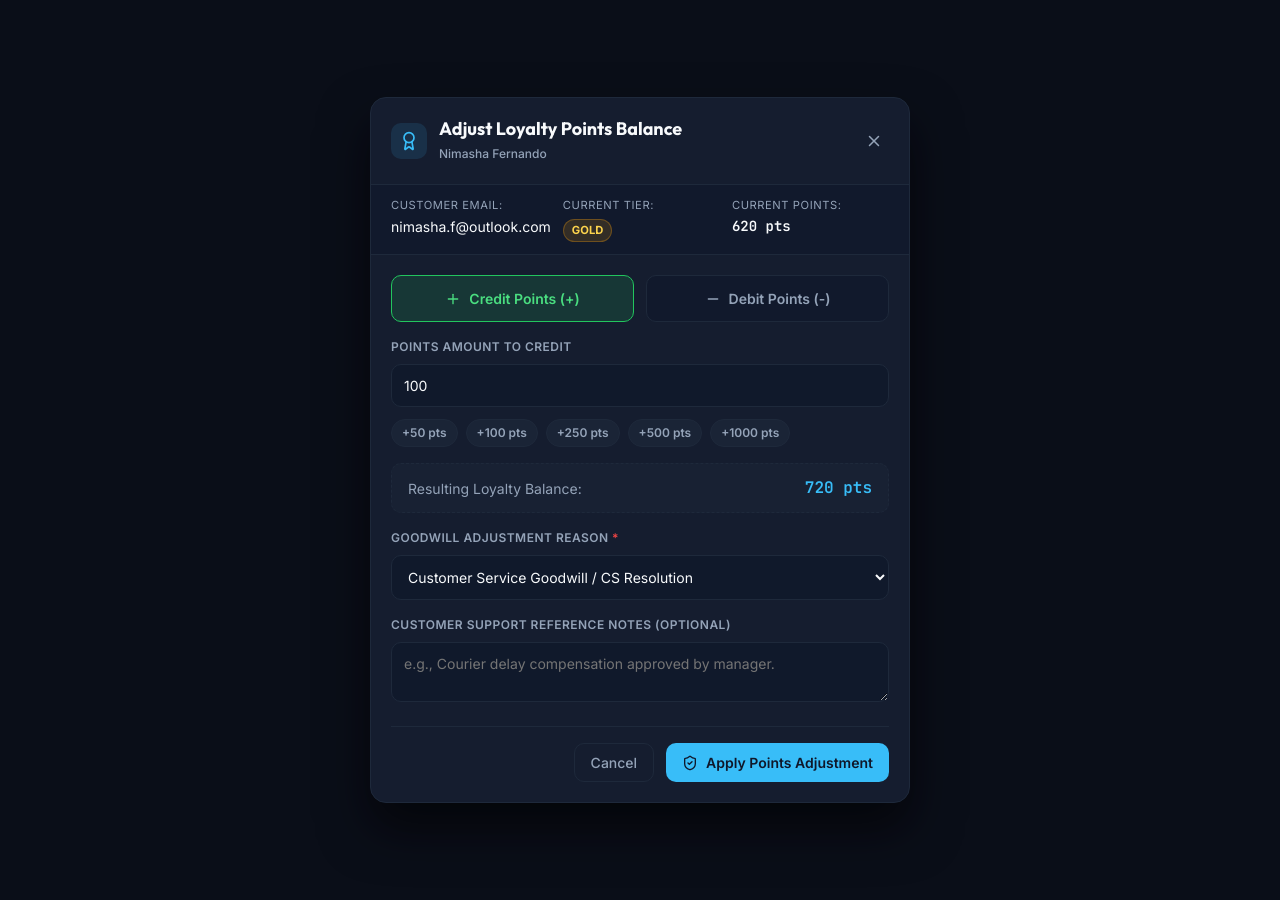
STORM-FE-020: Loyalty Tier Review Console & 2-Quarter Grace Period Downgrade Management › DEV-200: Goodwill Points Adjustment Modal & Quarterly Audit Sweep › prevents debiting more points than the customer available balance
Switch to debit (-)
Click the button with test id "toggle-deduct-points" at coordinates (768, 298), box top-left (646, 275), bottom-right (889, 322)
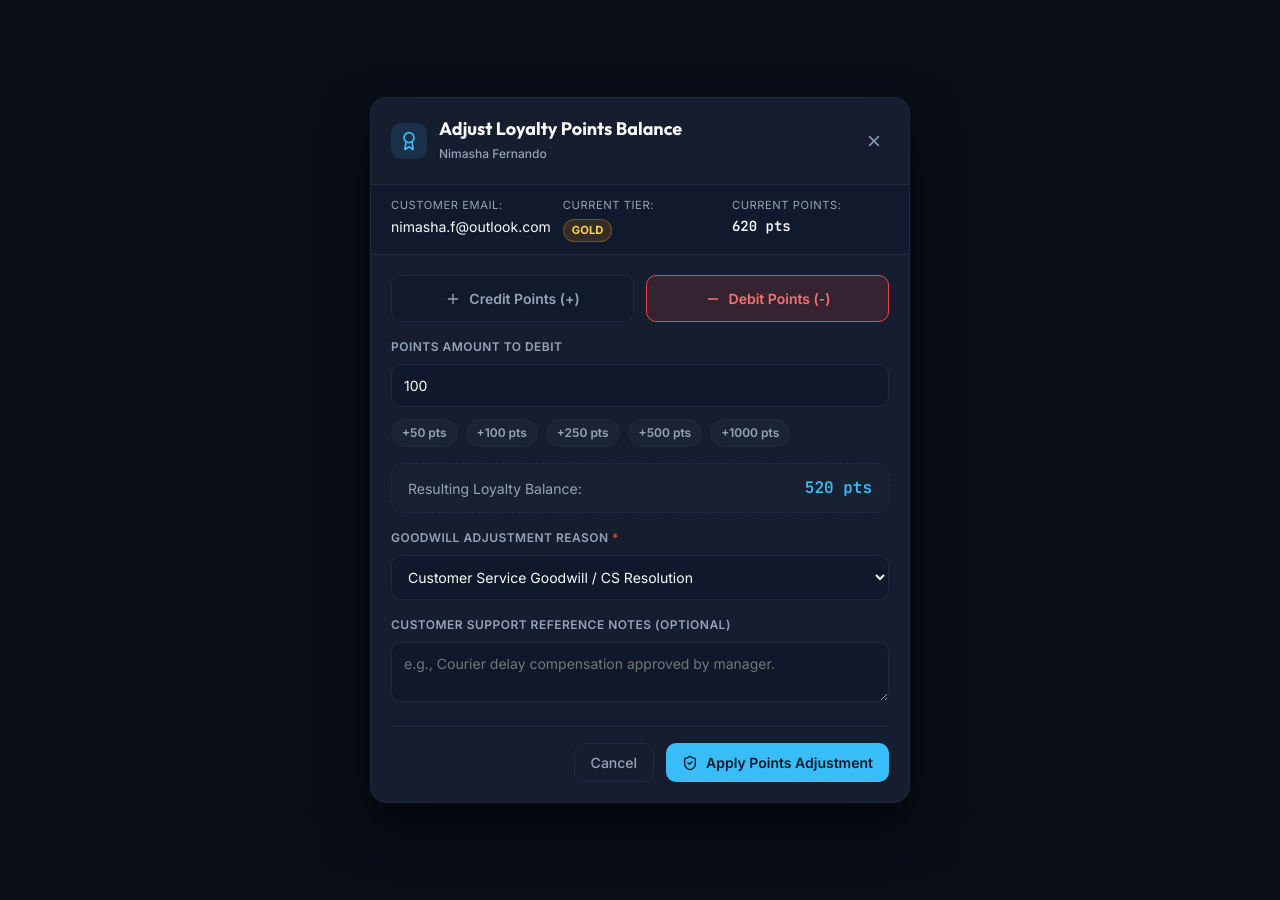
Replace the text in the number field with test id "points-qty-input" with "700" at coordinates (640, 386), box top-left (391, 364), bottom-right (889, 407)
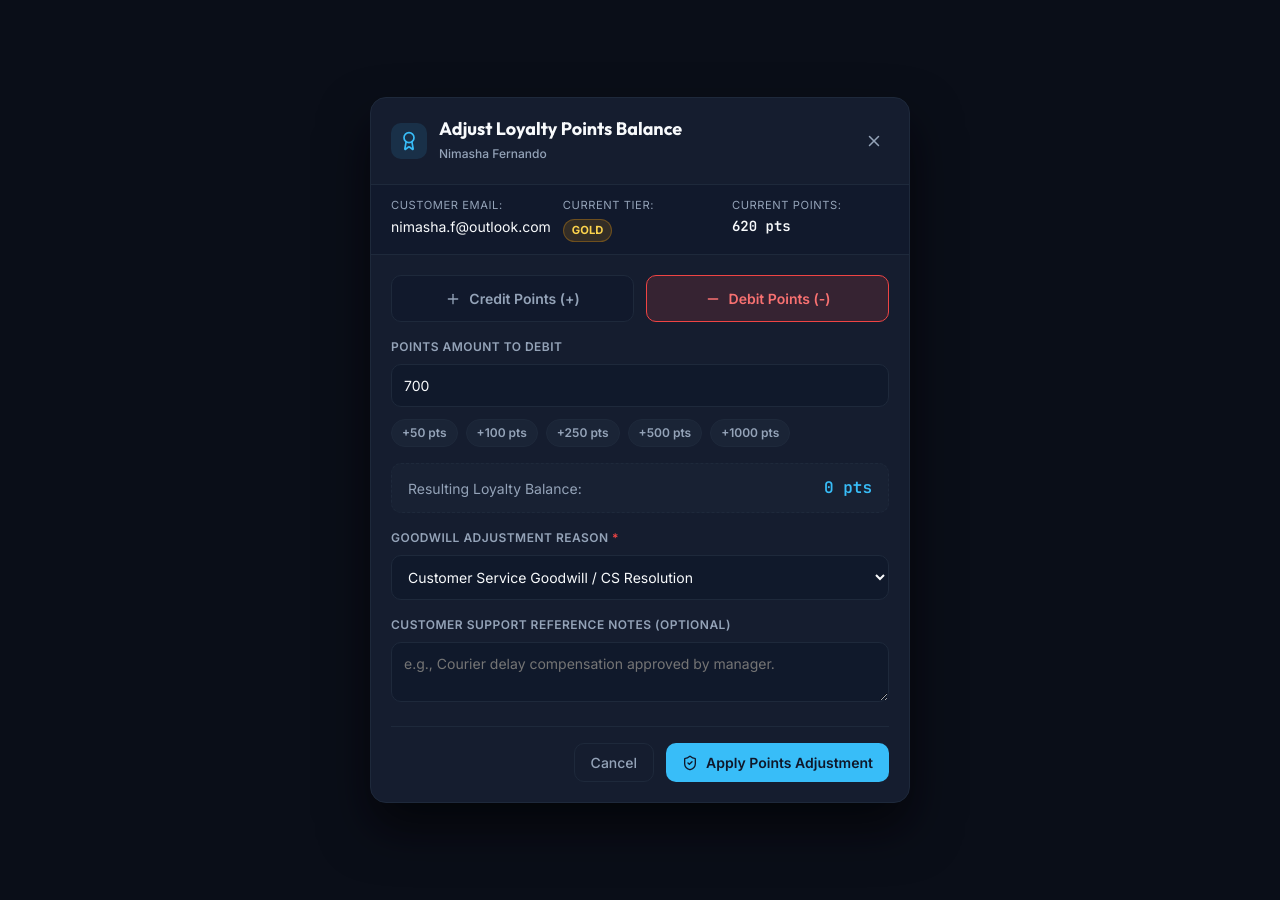
Click the button with test id "submit-points-adjustment-btn" at coordinates (778, 762), box top-left (666, 743), bottom-right (889, 782)
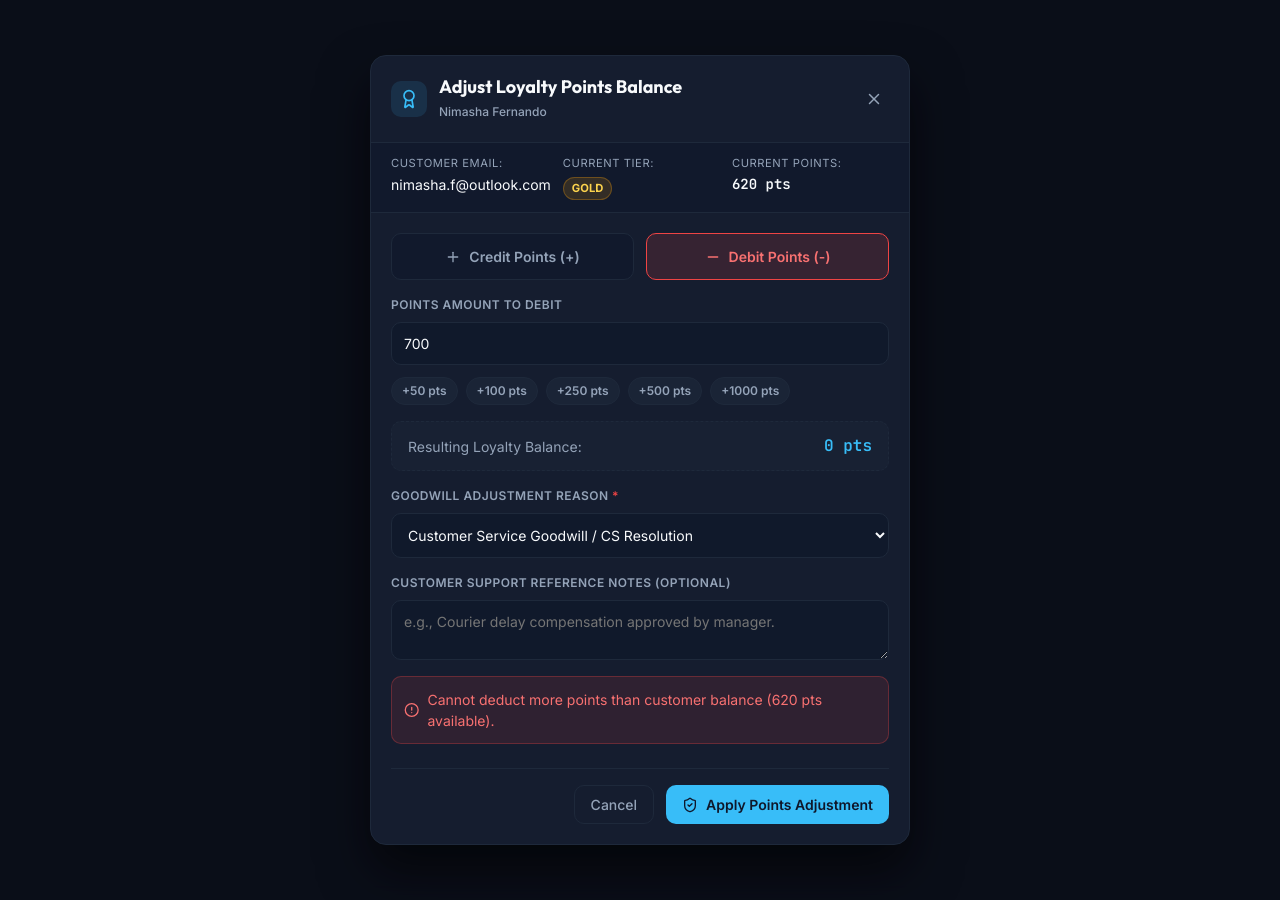
Result: the message with test id "points-modal-error" shows "Cannot deduct more points than customer balance" at top-left (427, 691), bottom-right (822, 729)
